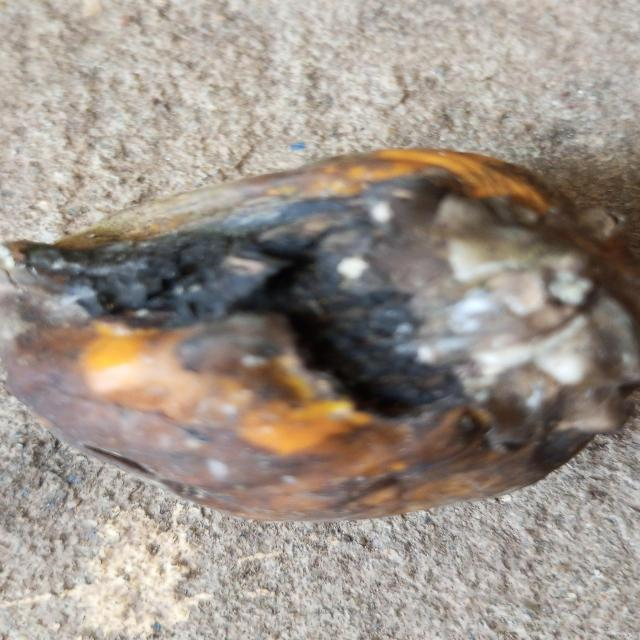damaged: (0, 148, 640, 524)
